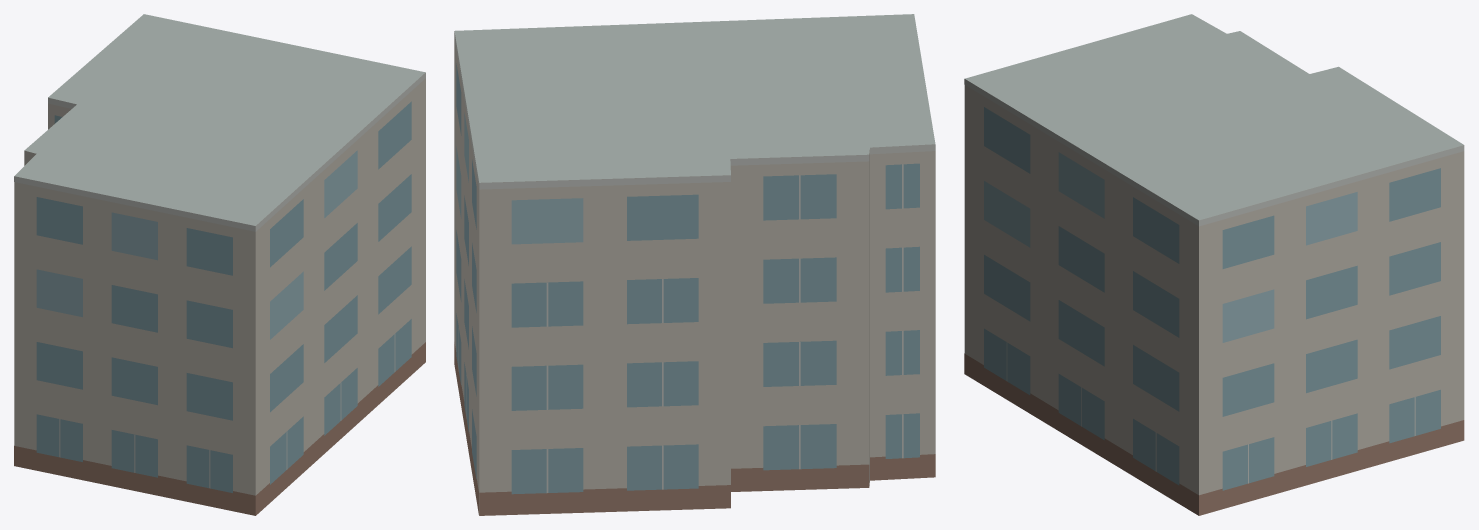
The model's file is survey-upis-32619277.glb.
The picture shows the model from 3 angles, left to right: view 1: azimuth 30°, elevation 25°; view 2: azimuth 150°, elevation 25°; view 3: azimuth 270°, elevation 25°; orthographic projection. The views are drawn at different scales.
Parts seen in each view (by area): view 1: survey-upis-32619277.tmp; view 2: survey-upis-32619277.tmp; view 3: survey-upis-32619277.tmp.
Boxes of the visible parts, x1,y1,x2,y2 form: survey-upis-32619277.tmp: (14, 14, 425, 515); survey-upis-32619277.tmp: (454, 14, 935, 515); survey-upis-32619277.tmp: (964, 14, 1464, 515).
Size of the model in its own units: 18.15 by 12.1 by 18.56.
